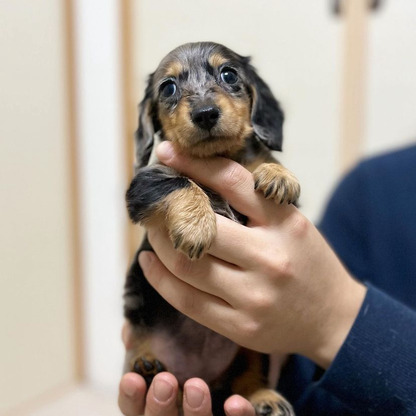dachshund: (117, 40, 301, 369)
